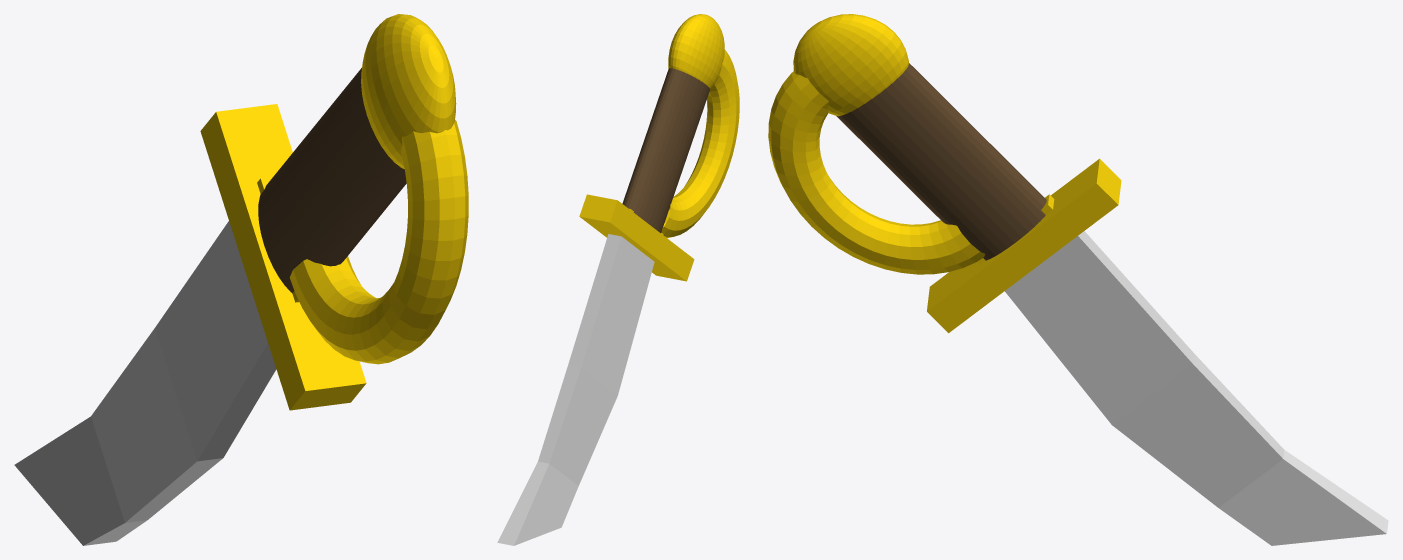
The model's file is Piratesword.fbx.
3 views of the same model, side by side, from view 1: azimuth 30°, elevation 25°; view 2: azimuth 150°, elevation 25°; view 3: azimuth 270°, elevation 25° (orthographic). The views are drawn at different scales.
Parts seen in each view (by area): view 1: Sword; view 2: Sword; view 3: Sword.
Part boxes in pixels (left/top/right/bottom): Sword: left=14, top=14, right=468, bottom=545; Sword: left=497, top=14, right=739, bottom=545; Sword: left=768, top=14, right=1388, bottom=545.
Bounding box in the file's own units: 32.98 × 265 × 279.
